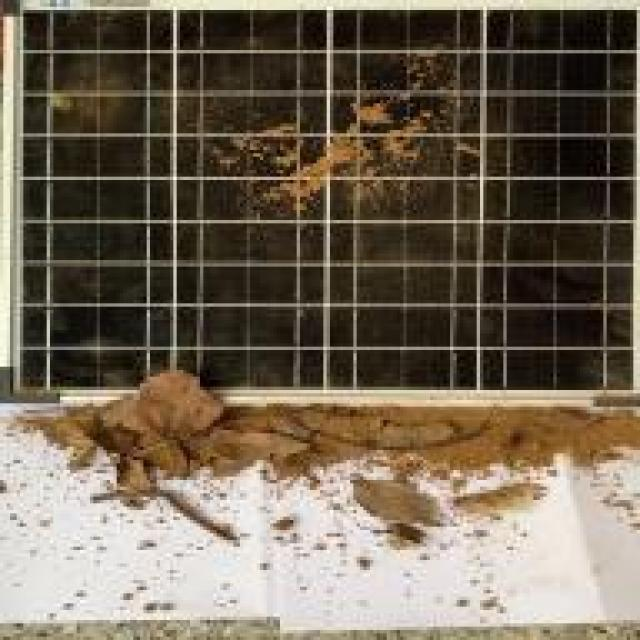dust-solar-panel: (1, 0, 640, 389)
